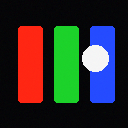2 circle: (82, 45, 108, 71)
